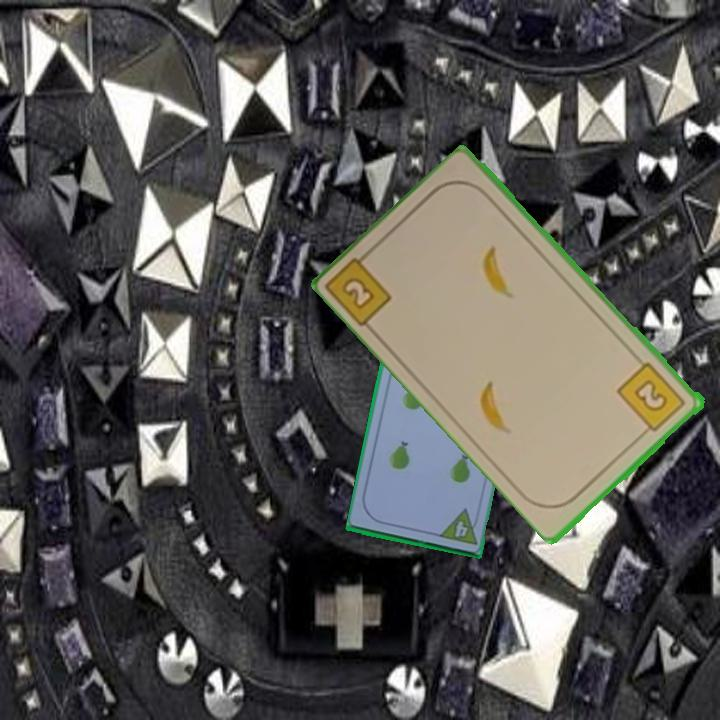2b: (325, 244, 396, 330), (614, 358, 689, 439)
4p: (436, 505, 482, 547)
